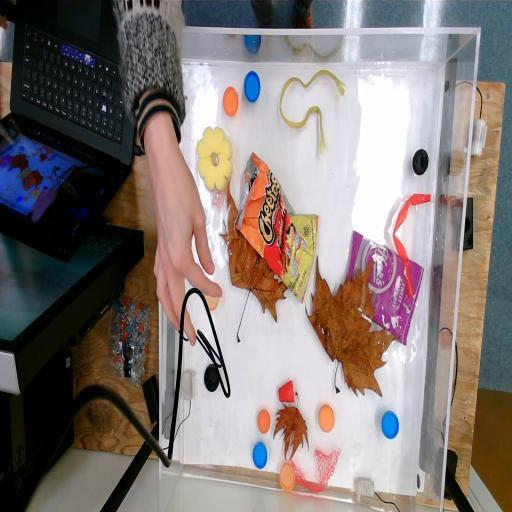Bottle Cap: (243, 69, 261, 103), (381, 410, 400, 440), (278, 463, 296, 493), (318, 404, 336, 434), (222, 87, 240, 117), (252, 440, 268, 470), (204, 362, 220, 392), (412, 148, 429, 176), (204, 282, 220, 310), (256, 408, 272, 434)
Cone Cap: (278, 379, 296, 405)
Leaf: (304, 253, 400, 401), (218, 178, 289, 345), (273, 390, 311, 462)
Netting: (290, 444, 342, 494), (209, 176, 229, 210)
Plastic Bag: (234, 151, 320, 304), (347, 229, 424, 347)
Plastic Strand: (278, 68, 347, 156), (392, 193, 430, 299)
Sponge: (195, 126, 234, 190)
